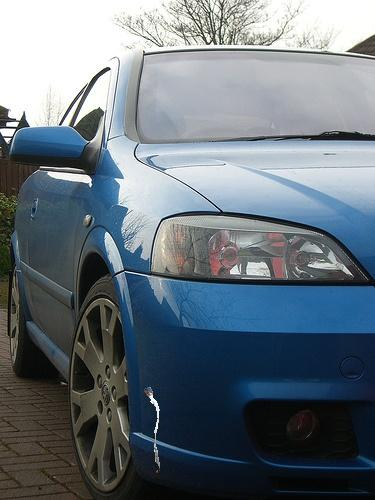tampered: (145, 388, 160, 473)
